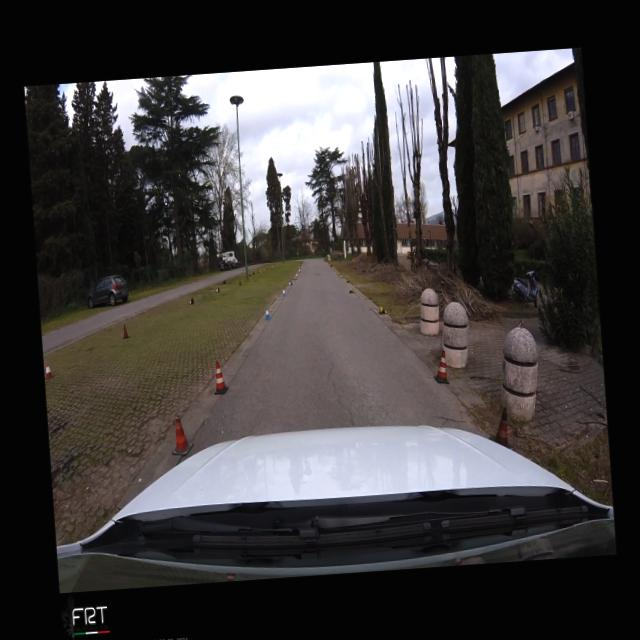blue_cone: (264, 306, 270, 318), (282, 288, 286, 296), (288, 280, 292, 285)
large_orange_cone: (432, 350, 449, 384), (212, 361, 228, 394)
orange_cone: (42, 358, 54, 379), (188, 298, 194, 304), (214, 286, 219, 292)
unknown_cone: (168, 414, 194, 456), (486, 408, 512, 450), (121, 324, 130, 338), (238, 279, 241, 285), (256, 268, 260, 272), (222, 280, 225, 284), (248, 272, 250, 276), (252, 270, 254, 274)
yellow_cone: (378, 304, 387, 314), (348, 287, 353, 293), (346, 278, 350, 282), (338, 272, 340, 277)
